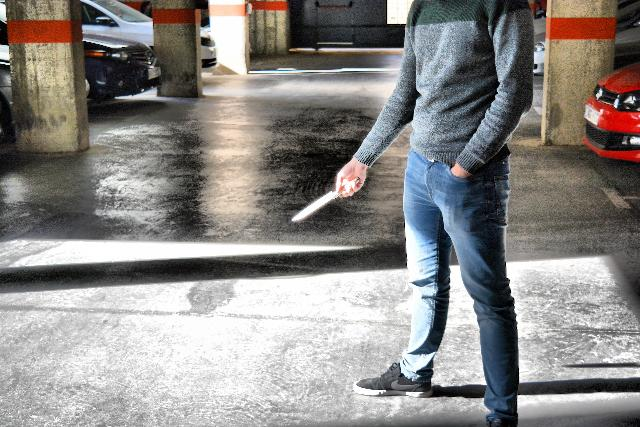knife: (286, 174, 362, 224)
